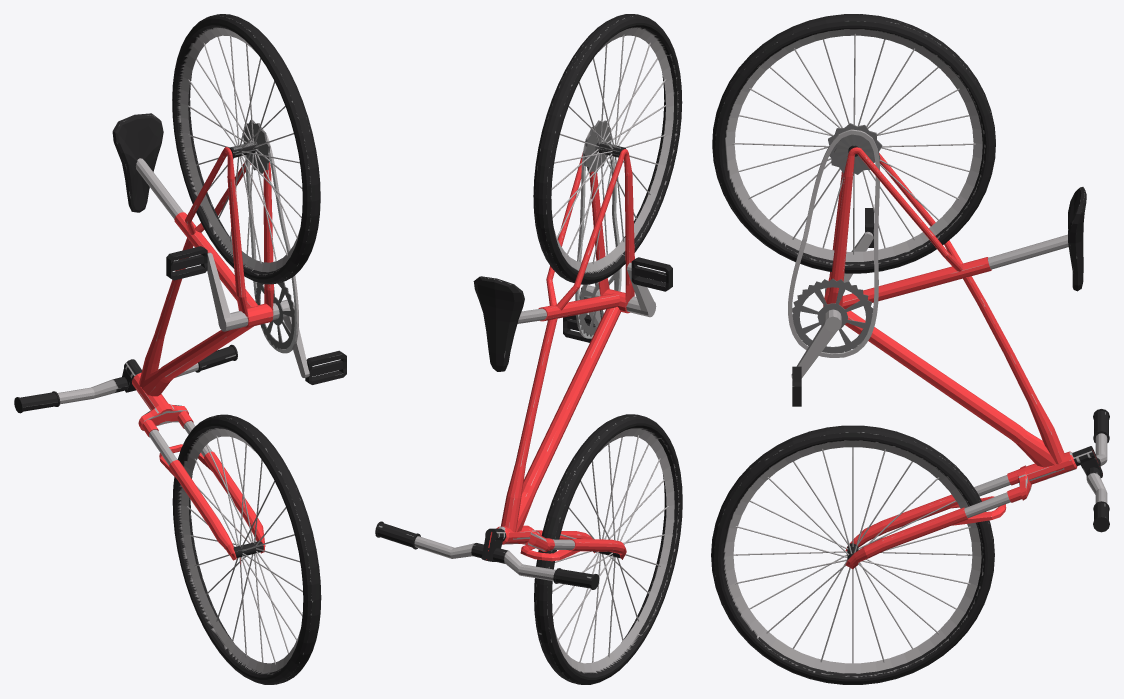
File: Bike.fbx
The picture shows the model from 3 angles, left to right: view 1: azimuth 30°, elevation 25°; view 2: azimuth 150°, elevation 25°; view 3: azimuth 270°, elevation 25°; orthographic projection. The views are drawn at different scales.
Visible parts, largest first — view 1: Frame, WheelBack, WheelFront, PedalShaftRight, PedalShaftLeft, PedalFootLeft, PedalFootRight; view 2: Frame, WheelBack, WheelFront, PedalFootLeft, PedalShaftRight, PedalShaftLeft, PedalFootRight; view 3: Frame, WheelBack, WheelFront, PedalShaftRight.
Boxes of the visible parts, <box> form: Frame: <box>14,113,298,560</box>; WheelBack: <box>172,14,320,284</box>; WheelFront: <box>172,414,321,684</box>; PedalShaftRight: <box>255,282,309,377</box>; PedalShaftLeft: <box>207,252,248,331</box>; PedalFootLeft: <box>166,246,207,280</box>; PedalFootRight: <box>305,350,346,384</box>; Frame: <box>375,125,634,589</box>; WheelBack: <box>533,14,682,284</box>; WheelFront: <box>534,414,682,684</box>; PedalFootLeft: <box>631,257,672,291</box>; PedalShaftRight: <box>578,271,618,336</box>; PedalShaftLeft: <box>626,262,656,317</box>; PedalFootRight: <box>563,314,595,342</box>; Frame: <box>788,129,1109,569</box>; WheelBack: <box>712,14,995,273</box>; WheelFront: <box>711,425,994,684</box>; PedalShaftRight: <box>791,278,873,378</box>.
Bounding box in the file's own units: 180 × 280 × 518.
